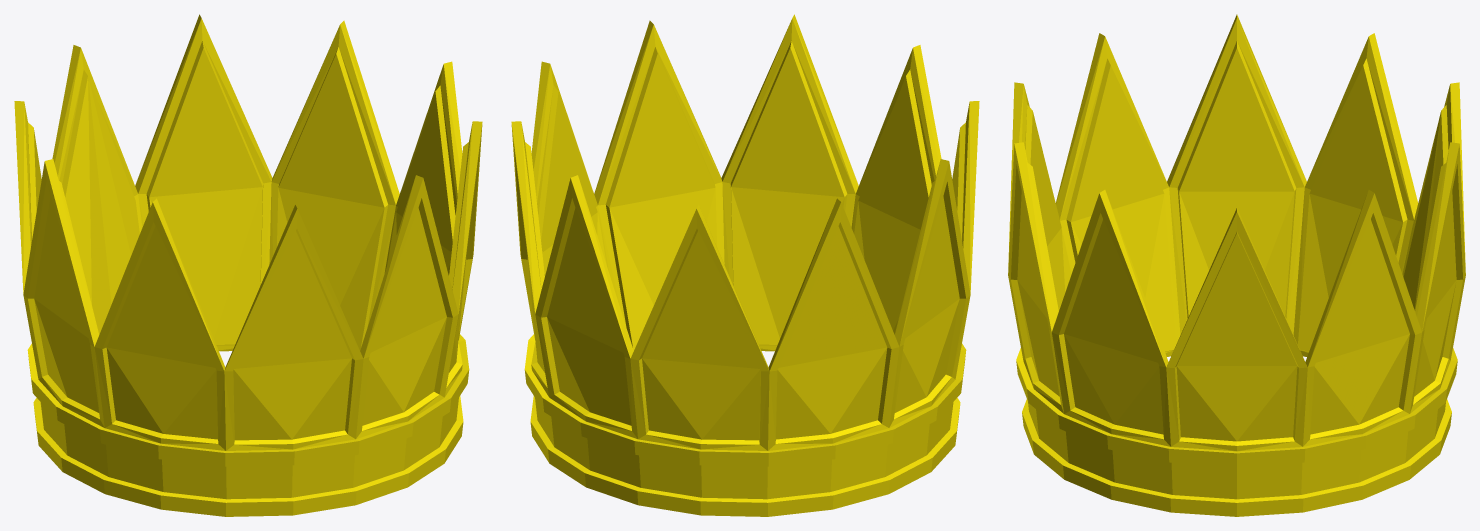
File: crown.obj
3 views of the same model, side by side, from view 1: azimuth 30°, elevation 25°; view 2: azimuth 150°, elevation 25°; view 3: azimuth 270°, elevation 25° (orthographic).
Parts seen in each view (by area): view 1: 円柱; view 2: 円柱; view 3: 円柱.
Part boxes in pixels (x1,y1,x2,y2): 円柱: (14,14,482,516); 円柱: (511,14,979,516); 円柱: (1008,14,1465,516).
Size of the model in its own units: 2 by 1.48 by 1.96.
